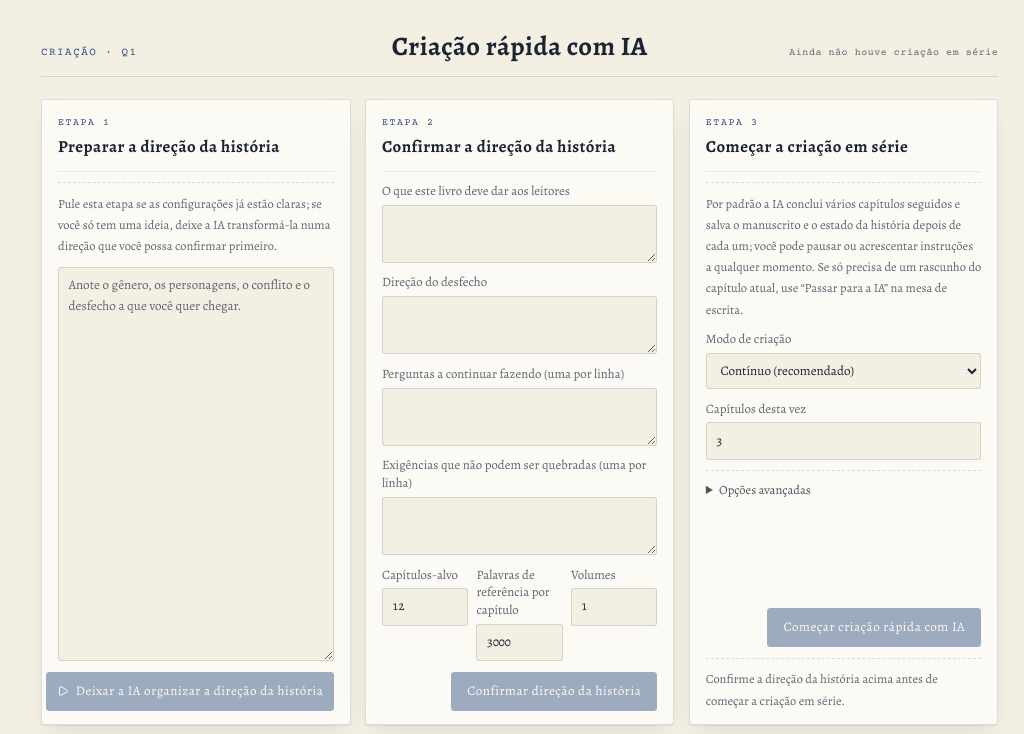
autopilot › the form uses the shared resource limits but does not cap reference length per chapter
Click the heading "Opções avançadas".
click(765, 490)  # box [719,481,811,498]
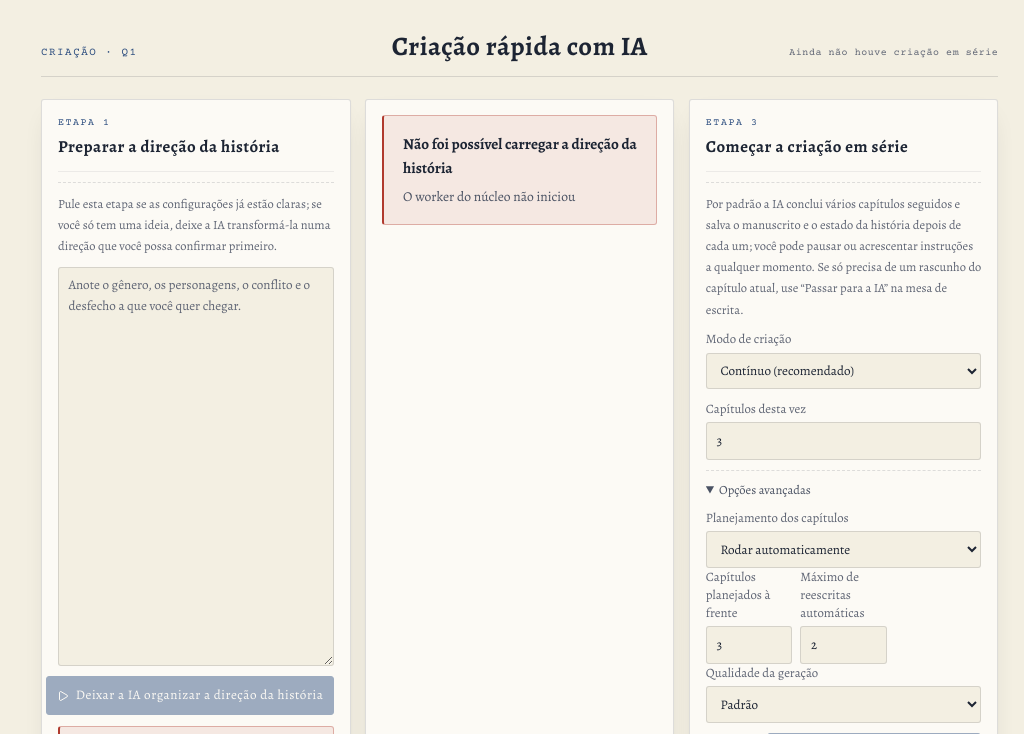
expect the number field labelled "Capítulos planejados à frente" has attribute max="20": met, box [706,626,792,664]
